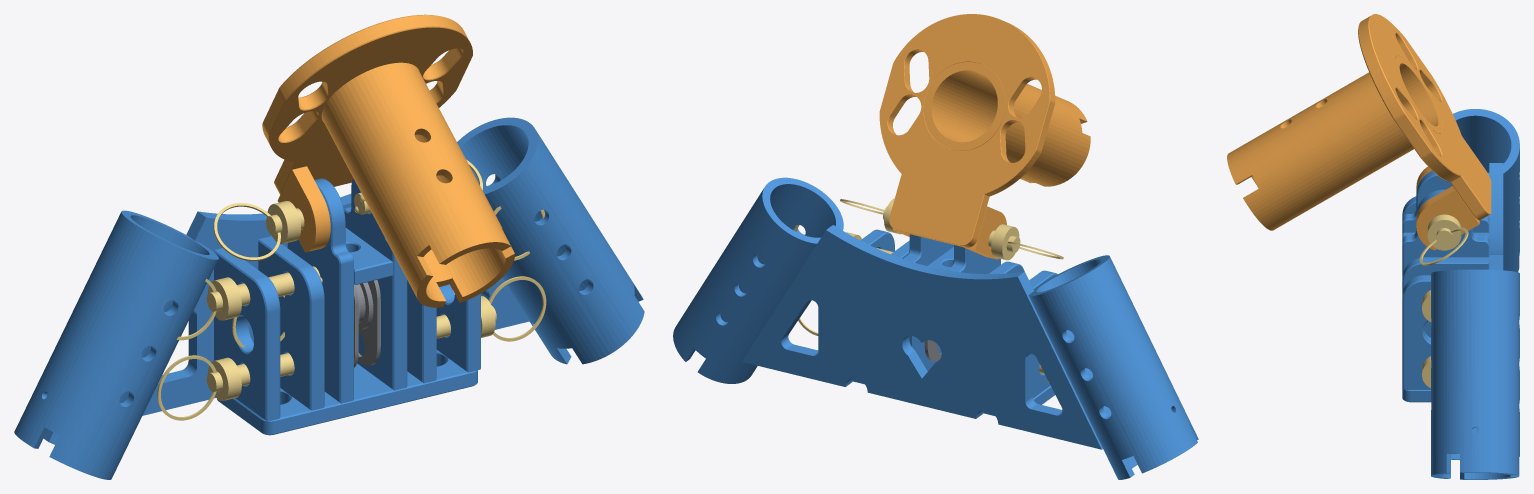
Rendered from cabeza_v6.glb.
The picture shows the model from 3 angles, left to right: view 1: azimuth 30°, elevation 25°; view 2: azimuth 150°, elevation 25°; view 3: azimuth 270°, elevation 25°; orthographic projection. The views are drawn at different scales.
Parts seen in each view (by area): view 1: c_02a, g_09, c_02b, g_08, c_01, c_03a, c_04a, c_05a, c_07, c_05b, c_03b, g_10a (+7 smaller); view 2: c_01, g_08, c_02a, c_02b, g_09, c_05b, g_P-Ai, c_05a, g_10a, c_03a; view 3: c_02b, g_09, g_08, c_02a, c_03b, c_05b, g_10b, c_01, c_04b, g_P-Ad, c_05a, c_07.
Part boxes in pixels (x1,y1,x2,y2): c_02a: [14, 210, 218, 479]; g_09: [321, 62, 514, 307]; c_02b: [457, 117, 644, 364]; g_08: [262, 14, 472, 194]; c_01: [142, 193, 529, 415]; c_03a: [214, 248, 280, 421]; c_04a: [258, 236, 324, 410]; c_05a: [287, 178, 353, 403]; c_07: [217, 350, 477, 435]; c_05b: [344, 178, 407, 390]; c_03b: [436, 284, 480, 372]; g_10a: [277, 166, 330, 252]; c_01: [742, 225, 1102, 449]; g_08: [879, 14, 1055, 247]; c_02a: [1028, 255, 1198, 479]; c_02b: [673, 177, 843, 383]; g_09: [923, 62, 1090, 186]; c_05b: [903, 234, 953, 371]; g_P-Ai: [988, 224, 1063, 260]; c_05a: [947, 245, 1000, 273]; g_10a: [963, 206, 1006, 259]; c_03a: [1029, 270, 1057, 397]; c_02b: [1431, 269, 1519, 479]; g_09: [1227, 56, 1442, 230]; g_08: [1358, 14, 1491, 220]; c_02a: [1453, 109, 1519, 272]; c_03b: [1402, 275, 1430, 389]; c_05b: [1402, 189, 1489, 275]; g_10b: [1416, 186, 1479, 250]; c_01: [1489, 163, 1503, 270]; c_04b: [1402, 257, 1489, 337]; g_P-Ad: [1419, 214, 1468, 265]; c_05a: [1402, 171, 1489, 232]; c_07: [1402, 389, 1430, 402].
Bounding box in the file's own units: 416 × 287 × 209.
